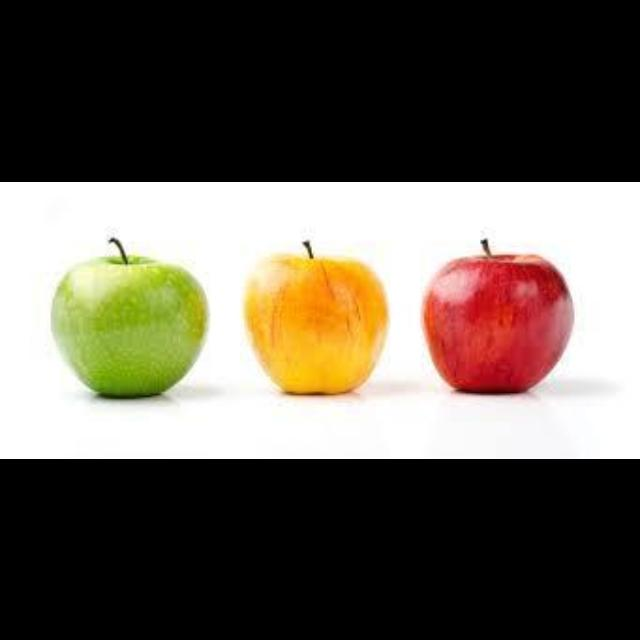apple: (51, 237, 206, 395), (422, 237, 572, 391), (244, 239, 387, 391)
